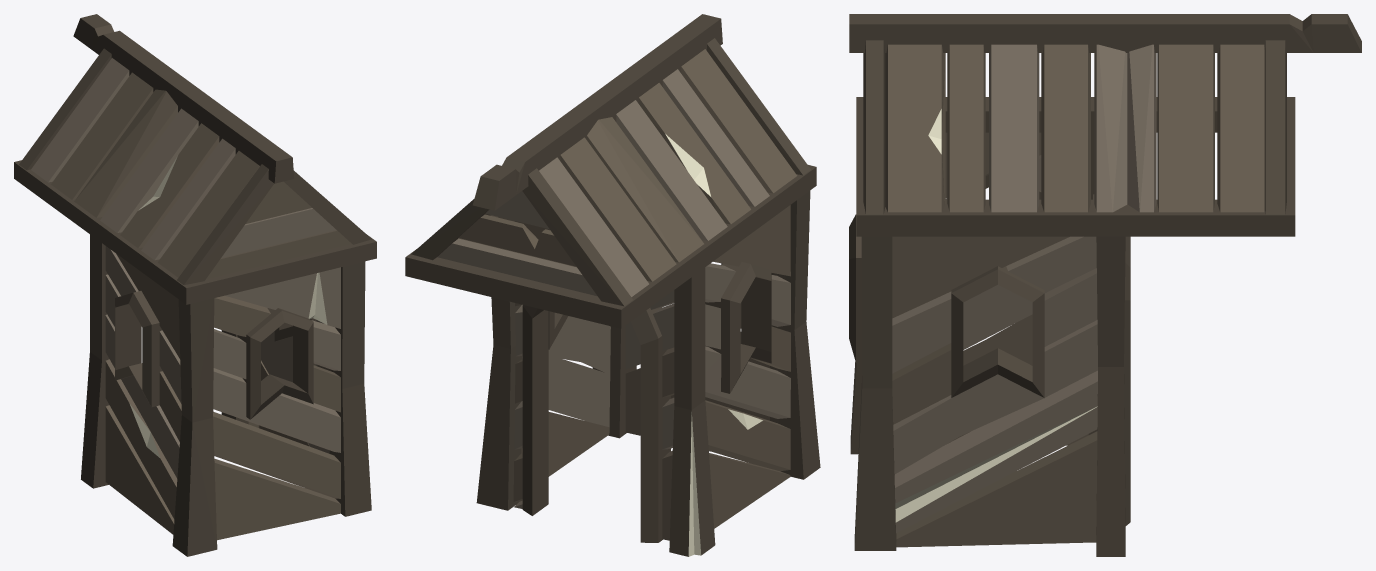
Rendered from _SENTRY_HURT.fbx.
3 views of the same model, side by side, from view 1: azimuth 30°, elevation 25°; view 2: azimuth 150°, elevation 25°; view 3: azimuth 270°, elevation 25° (orthographic). The views are drawn at different scales.
Visible parts, largest first — view 1: SENTRY_HURT; view 2: SENTRY_HURT; view 3: SENTRY_HURT.
Boxes of the visible parts, x1,y1,x2,y2 form: SENTRY_HURT: (14, 14, 376, 556); SENTRY_HURT: (405, 14, 820, 556); SENTRY_HURT: (849, 14, 1361, 556).
Size of the model in its own units: 304 by 554 by 540.
